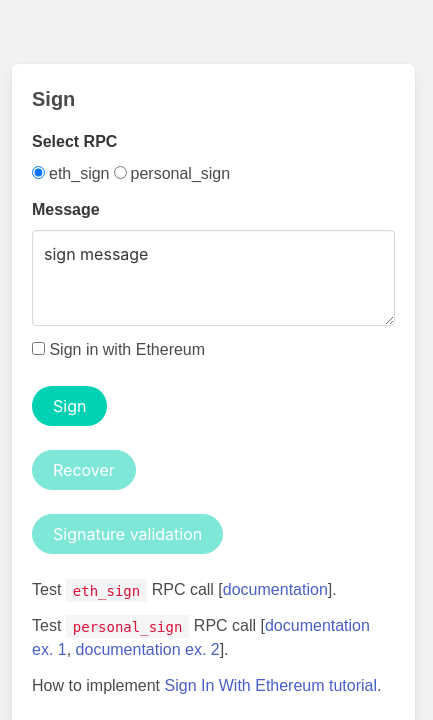
Test: can recovery message
The image size is (433, 720).
Click the button with test id "sign" at {"x": 70, "y": 406}, box [32,386,107,426]
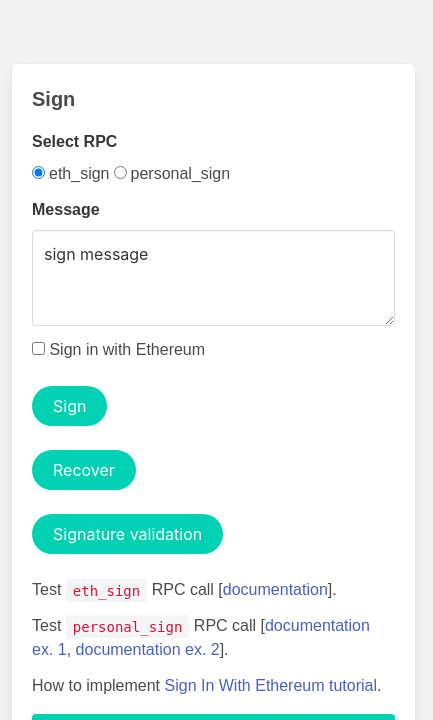
Click the button with test id "recover" at {"x": 84, "y": 470}, box [32,450,136,490]
(page scrolled)
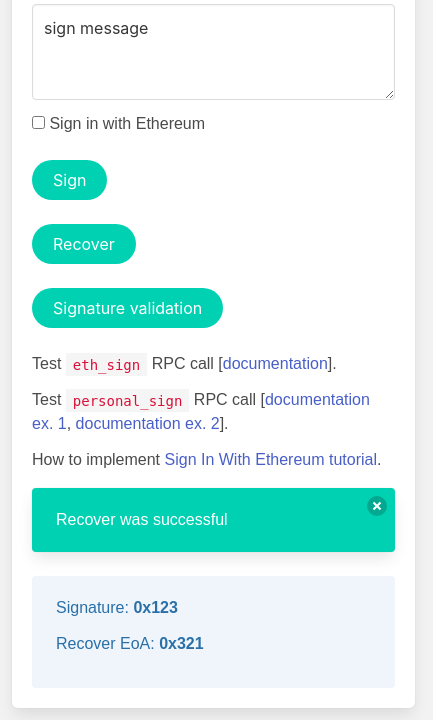
Now the element with test id "notification" reads "Recover was successful", box [56,511,228,528]
Now the text with test id "recovery-eoa" reads "0x321", box [159,635,204,652]
